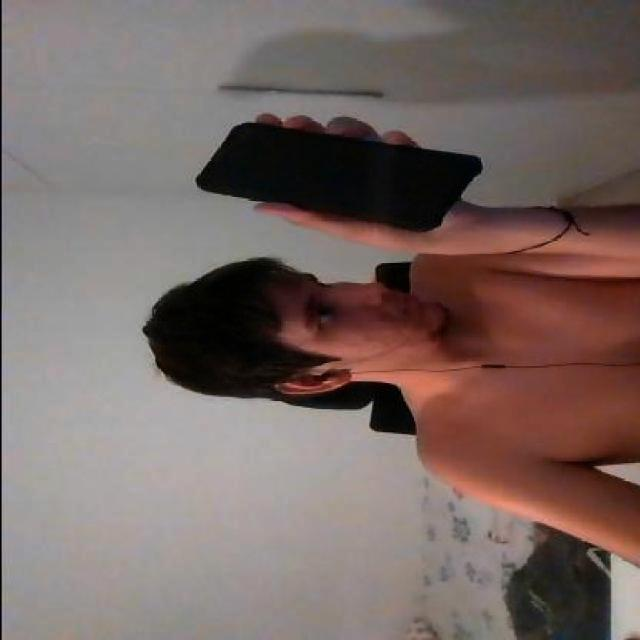phone: (193, 117, 476, 231)
